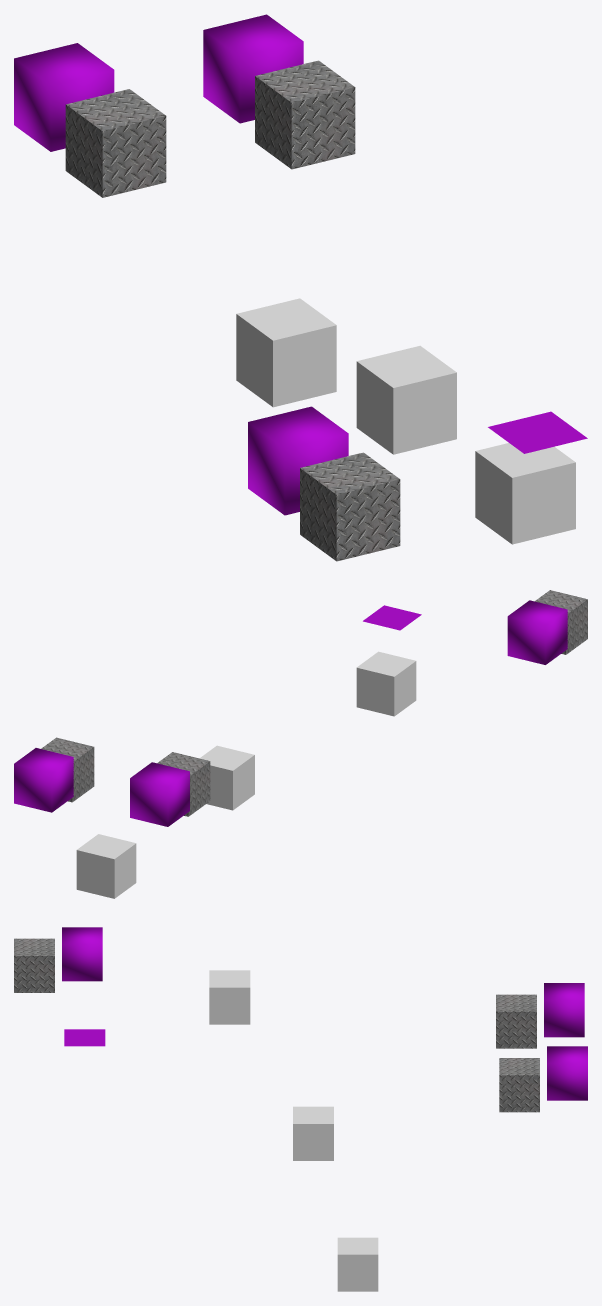
File: weird_blender_example.dae
The picture shows the model from 3 angles, top to bottom: view 1: azimuth 30°, elevation 25°; view 2: azimuth 150°, elevation 25°; view 3: azimuth 270°, elevation 25°; orthographic projection. The views are drawn at different scales.
Visible parts, largest first — view 1: Dup1, JoinedCubes, Dup2, CubeNoMat, Parent, Child, Plane; view 2: Dup2, Dup1, JoinedCubes, CubeNoMat, Child, Parent, Plane; view 3: JoinedCubes, Dup1, Dup2, CubeNoMat, Child, Parent, Plane.
Boxes of the visible parts, bbox=[...] form: Dup1: bbox=[14, 43, 166, 197]; JoinedCubes: bbox=[248, 406, 400, 561]; Dup2: bbox=[203, 14, 355, 169]; CubeNoMat: bbox=[236, 298, 336, 407]; Parent: bbox=[356, 345, 456, 454]; Child: bbox=[475, 443, 575, 544]; Plane: bbox=[488, 411, 587, 453]; Dup2: bbox=[14, 737, 94, 812]; Dup1: bbox=[130, 752, 210, 826]; JoinedCubes: bbox=[507, 590, 587, 664]; CubeNoMat: bbox=[356, 651, 416, 716]; Child: bbox=[76, 834, 136, 898]; Parent: bbox=[199, 745, 254, 810]; Plane: bbox=[363, 605, 421, 630]; JoinedCubes: bbox=[14, 927, 102, 992]; Dup1: bbox=[496, 983, 584, 1048]; Dup2: bbox=[499, 1046, 587, 1112]; CubeNoMat: bbox=[209, 970, 250, 1024]; Child: bbox=[337, 1237, 378, 1291]; Parent: bbox=[293, 1106, 333, 1160]; Plane: bbox=[64, 1029, 105, 1046].
Bounding box in the file's own units: 16.94 × 28.11 × 11.81.
